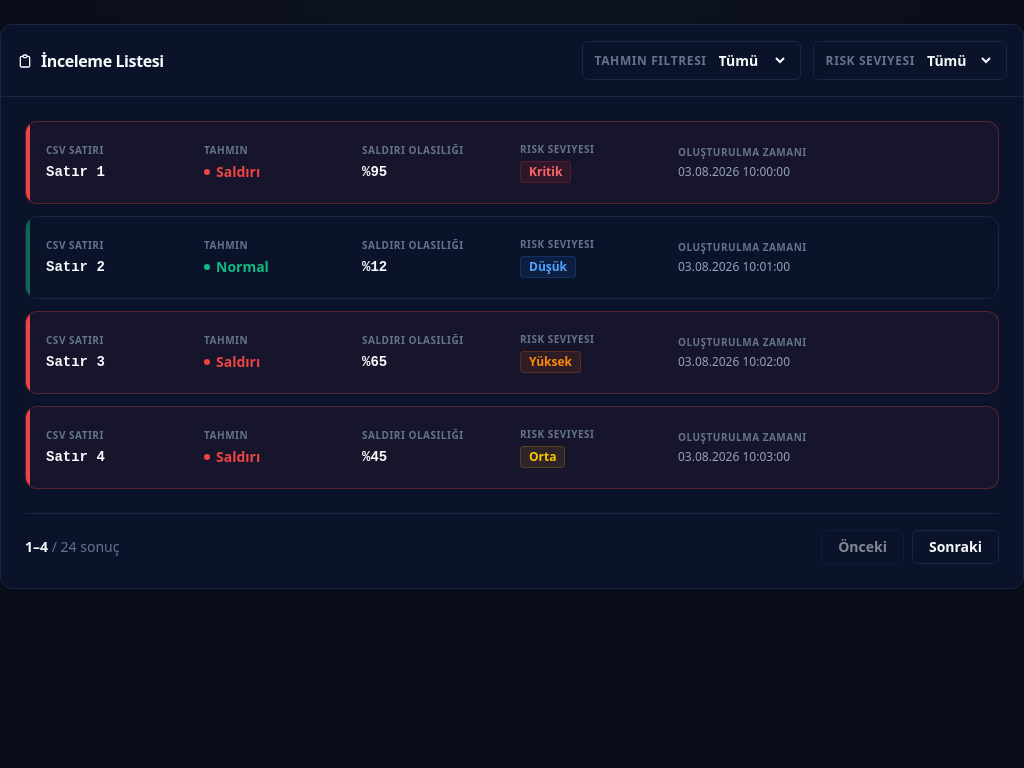
Test: DetectionResultsList › 14. total kullanılarak son sayfa doğru belirlenir
Click the button "Sonraki" at (955, 547), box [912,530,999,564]
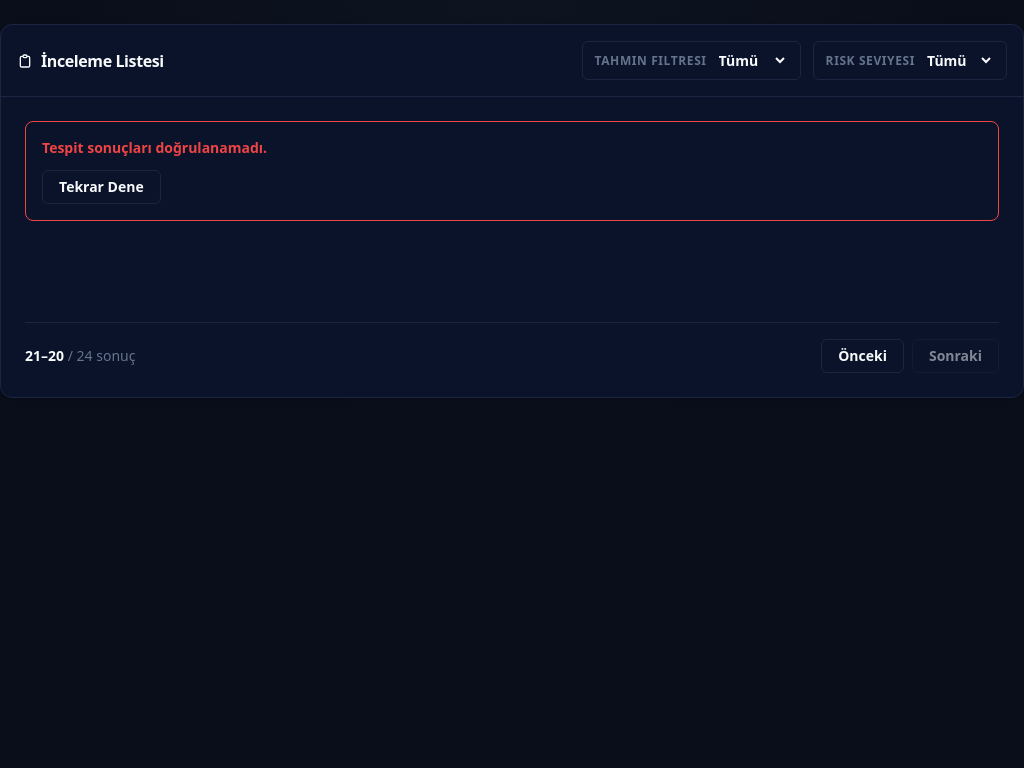
Now the button "Sonraki" is disabled, box [912,339,999,373]
